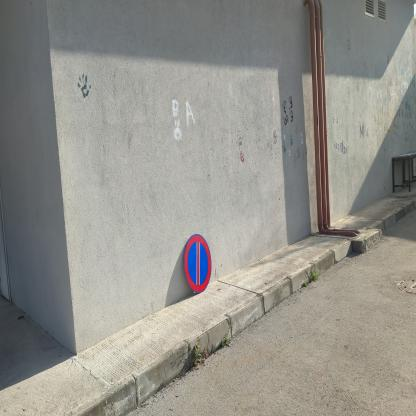No Waiting: (185, 235, 212, 293)
